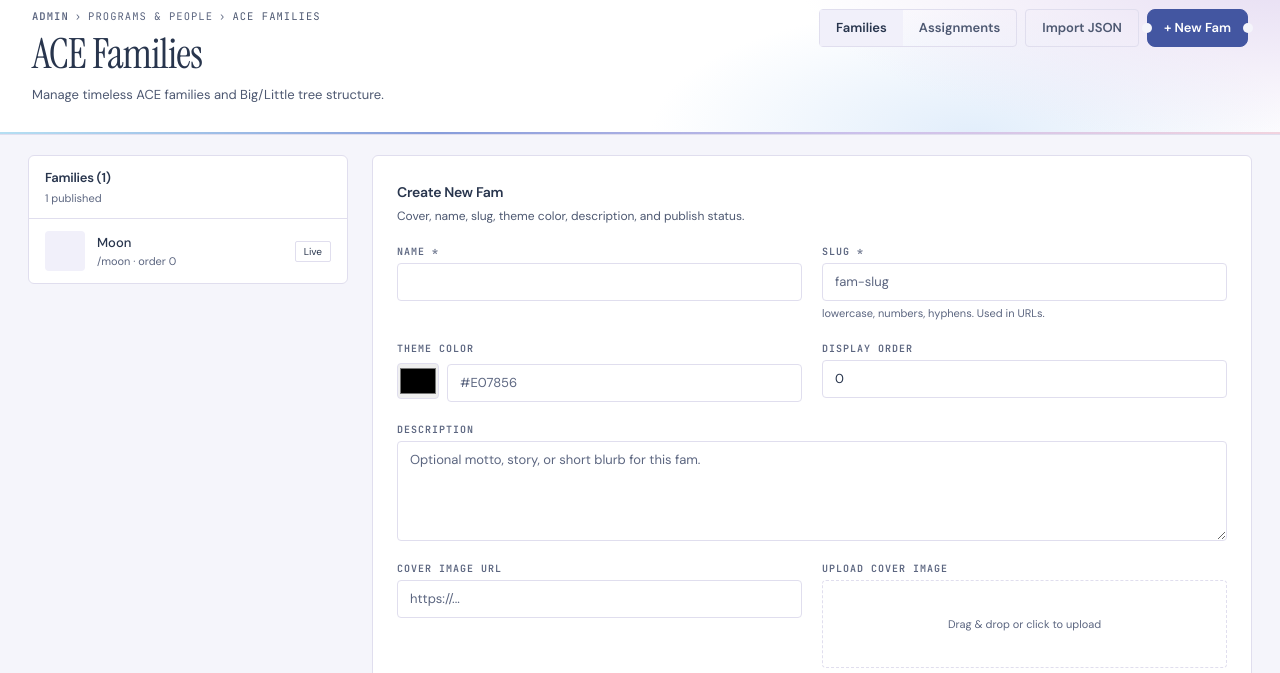
Test: clears an Unlinked URL filter in the same navigation that targets a linked year-review node
What coordinates should you click on to do the following:
click the button "Moon /moon · order 0 Live"
I would click on:
 (65, 251)
Its box is [29,219,347,283].
(page scrolled)
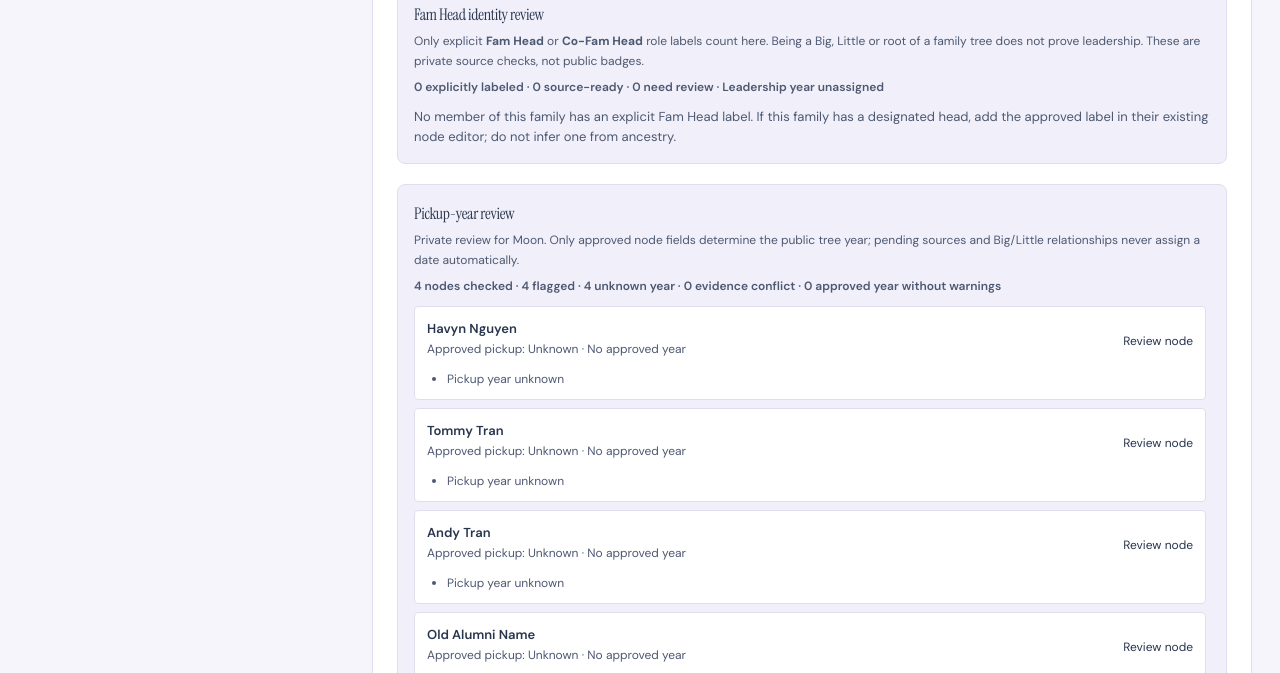
What coordinates should you click on to do the following:
click the 1st button "Review node"
I would click on:
 (1158, 341)
Its box is [1123,319,1193,363].
(page scrolled)
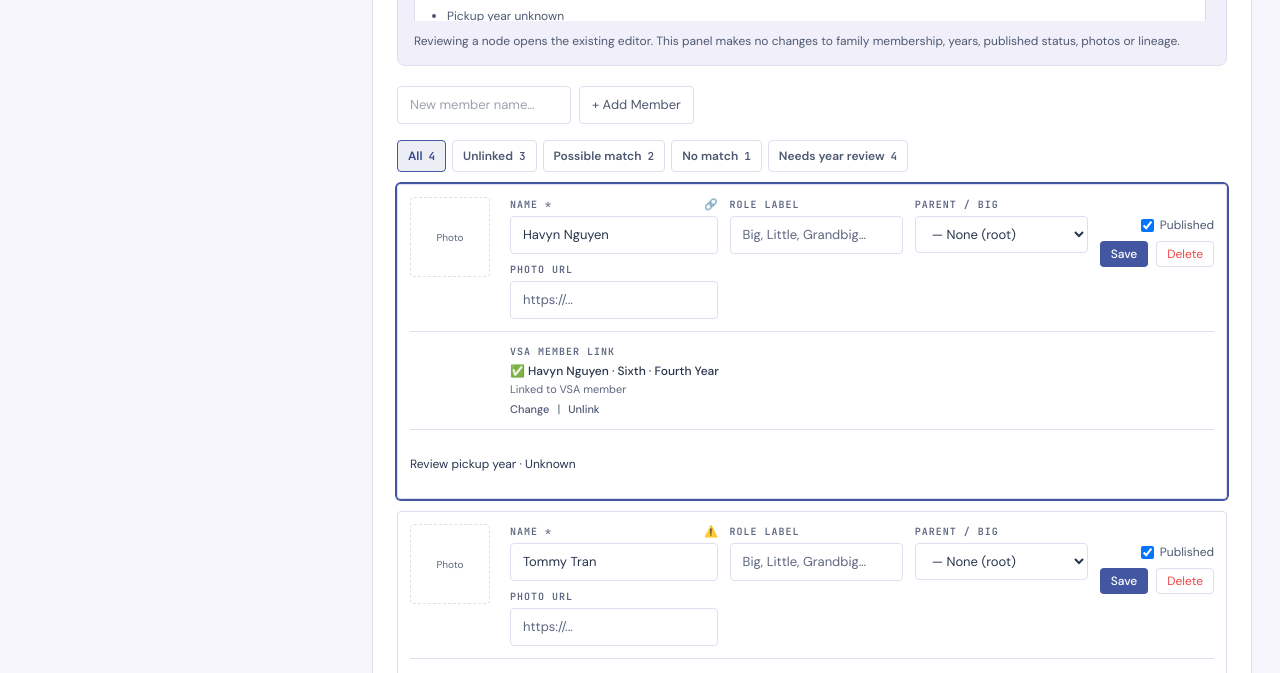
Expected: the 1st field showing "Havyn Nguyen" is shown, [510,216,718,254]
